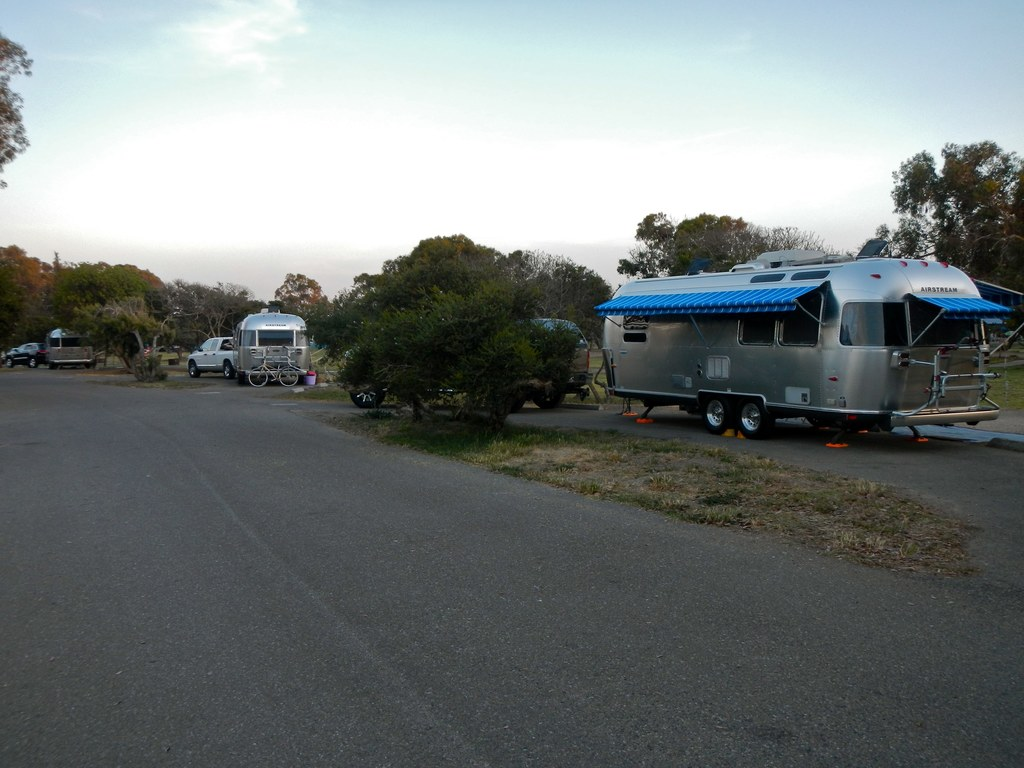Tree: (311, 231, 593, 430), (46, 248, 179, 370), (616, 211, 816, 288), (892, 140, 1021, 251), (0, 231, 78, 378), (512, 259, 618, 348), (172, 273, 273, 348), (0, 14, 37, 188), (259, 278, 353, 335)
